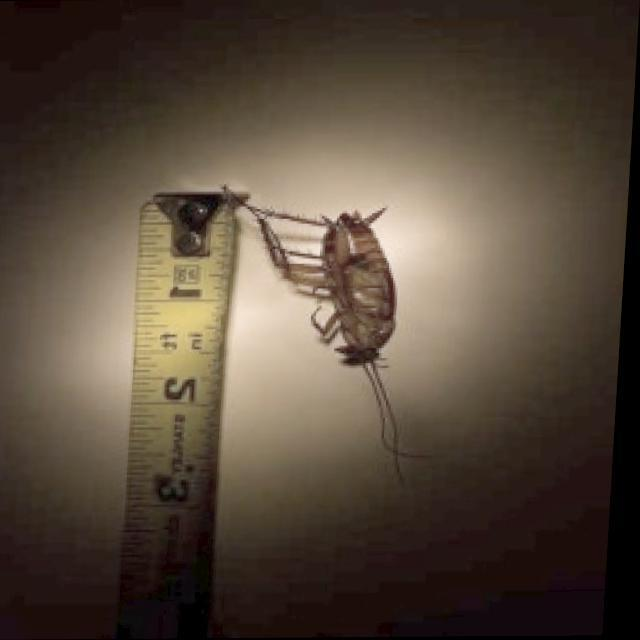cockroach: (264, 183, 436, 390)
